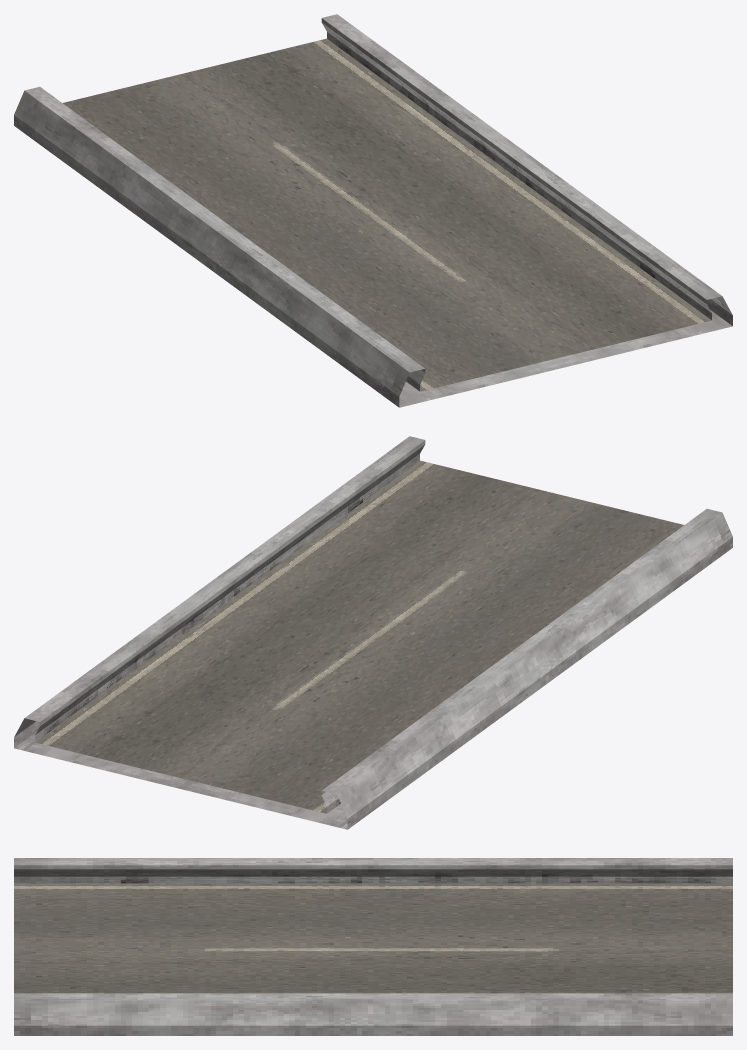
Rendered from straight2.glb.
3 renders of one model, top to bottom at view 1: azimuth 30°, elevation 25°; view 2: azimuth 150°, elevation 25°; view 3: azimuth 270°, elevation 25°, orthographic. The views are drawn at different scales.
Visible parts, largest first — view 1: road-Straight-Flat-Flat-Even-Center-Size2; view 2: road-Straight-Flat-Flat-Even-Center-Size2; view 3: road-Straight-Flat-Flat-Even-Center-Size2.
Part boxes in pixels (bbox=[...]): road-Straight-Flat-Flat-Even-Center-Size2: bbox=[14, 14, 732, 407]; road-Straight-Flat-Flat-Even-Center-Size2: bbox=[14, 436, 732, 829]; road-Straight-Flat-Flat-Even-Center-Size2: bbox=[14, 858, 732, 1035].
Size of the model in its own units: 1 by 0.0938 by 2.
2 materials, 2 textured.
